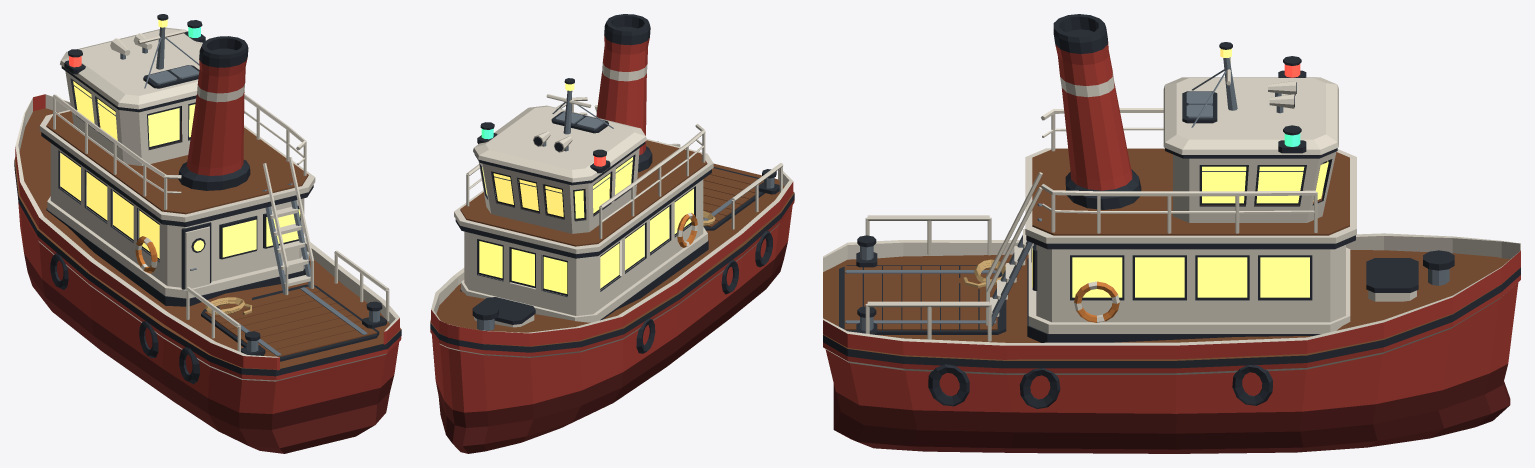
Rendered from ferry.glb.
3 renders of one model, left to right at view 1: azimuth 30°, elevation 25°; view 2: azimuth 150°, elevation 25°; view 3: azimuth 270°, elevation 25°, orthographic. The views are drawn at different scales.
Parts seen in each view (by area): view 1: North_Quay; view 2: North_Quay; view 3: North_Quay.
Boxes of the visible parts, <box> form: North_Quay: <box>14,14,401,453</box>; North_Quay: <box>430,14,794,453</box>; North_Quay: <box>823,14,1520,453</box>.
Bounding box in the file's own units: 3 × 4.97 × 8.
